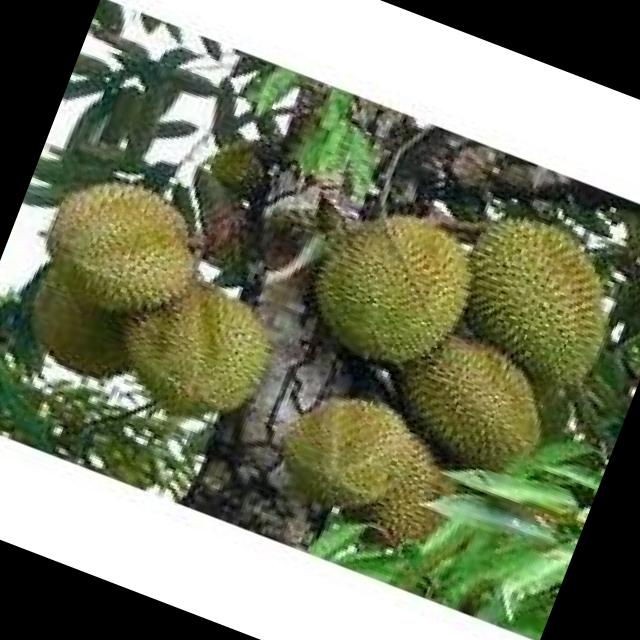fruit: (0, 133, 274, 433), (272, 166, 509, 408), (362, 292, 598, 512), (247, 360, 483, 570)
